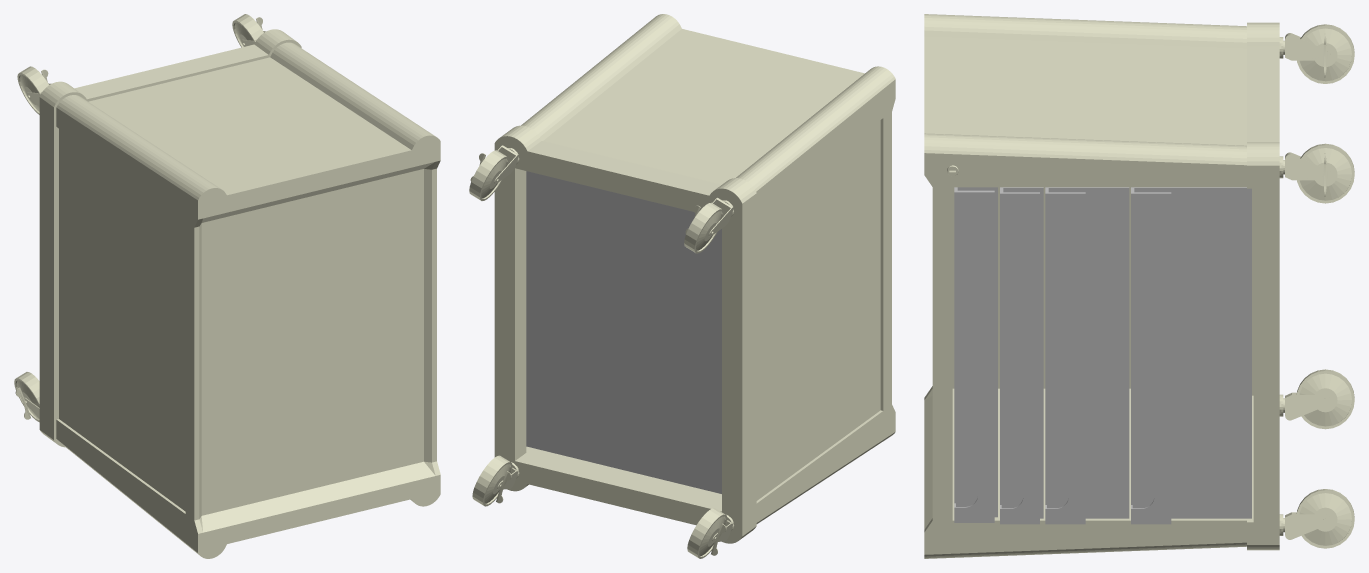
3 views of the same model, side by side, from view 1: azimuth 30°, elevation 25°; view 2: azimuth 150°, elevation 25°; view 3: azimuth 270°, elevation 25° (orthographic). The views are drawn at different scales.
Parts seen in each view (by area): view 1: crash supply cart; view 2: crash supply cart; view 3: crash supply cart.
Boxes of the visible parts, box(x1,y1,x2,y2) form: crash supply cart: box(14, 14, 440, 558); crash supply cart: box(469, 14, 895, 558); crash supply cart: box(924, 14, 1354, 558).
Bounding box in the file's own units: 25.24 × 34.62 × 32.03.
